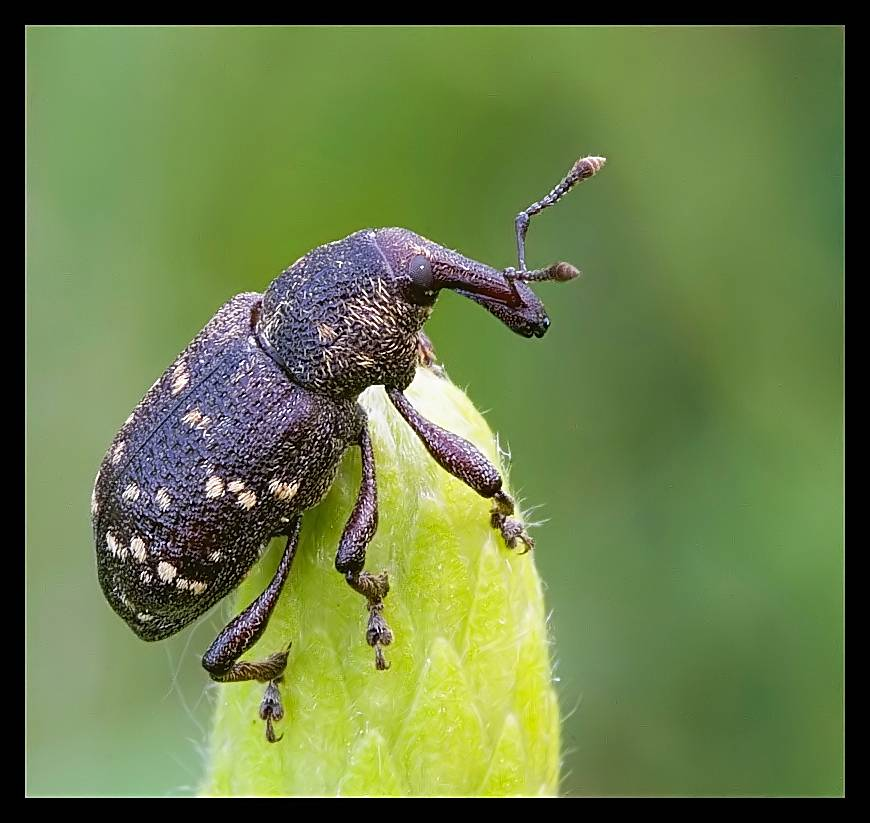dolgonosik: (88, 152, 607, 734)
